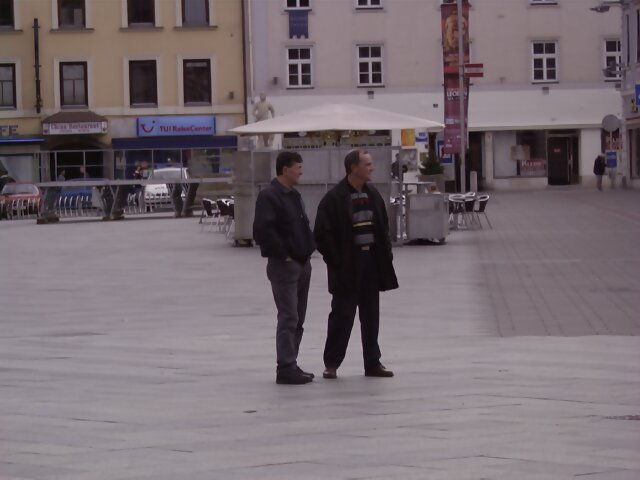person: (314, 147, 398, 389), (250, 146, 318, 396)
